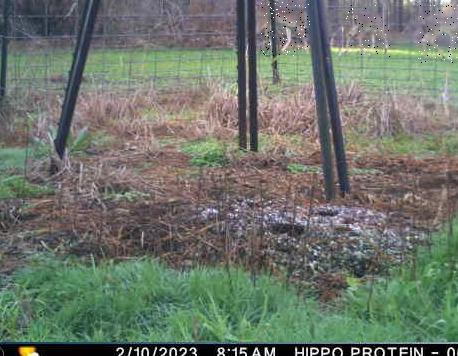Deer: (261, 0, 310, 56), (346, 4, 392, 58), (417, 4, 458, 63)
